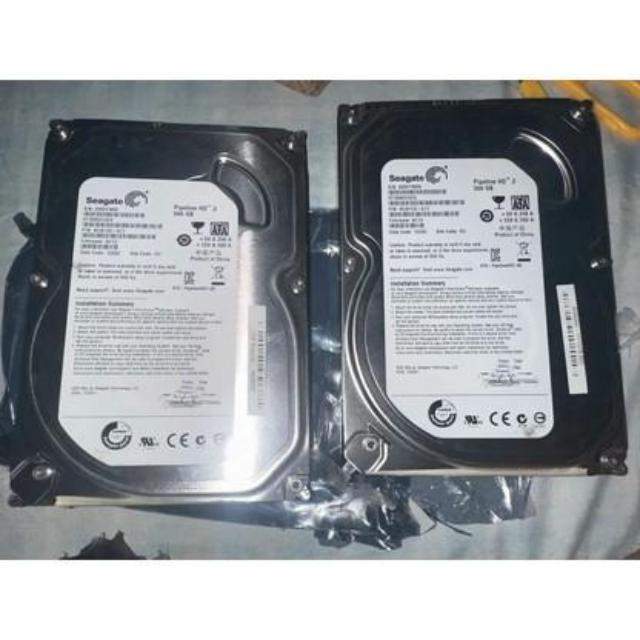DISK: (339, 97, 621, 483), (38, 119, 302, 496)
